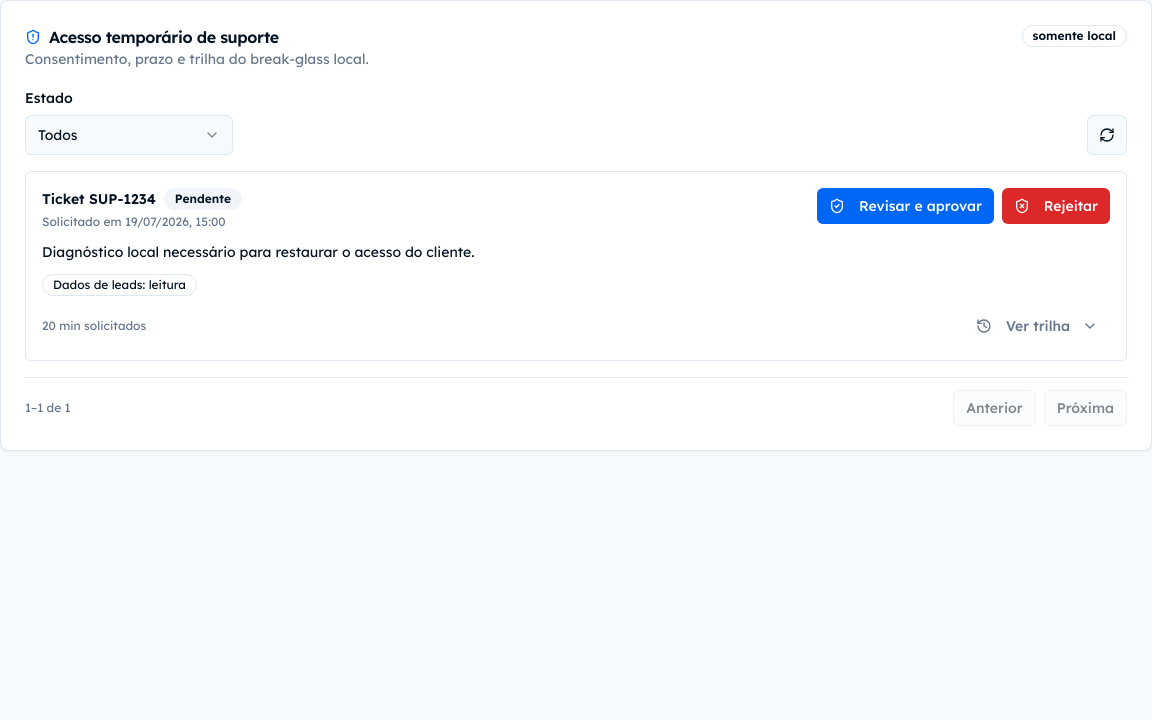
it: SupportAccessPanel › does not approve lead data without a primary scope
Click the button "Revisar e aprovar": point(905, 206) [817,188,994,224]
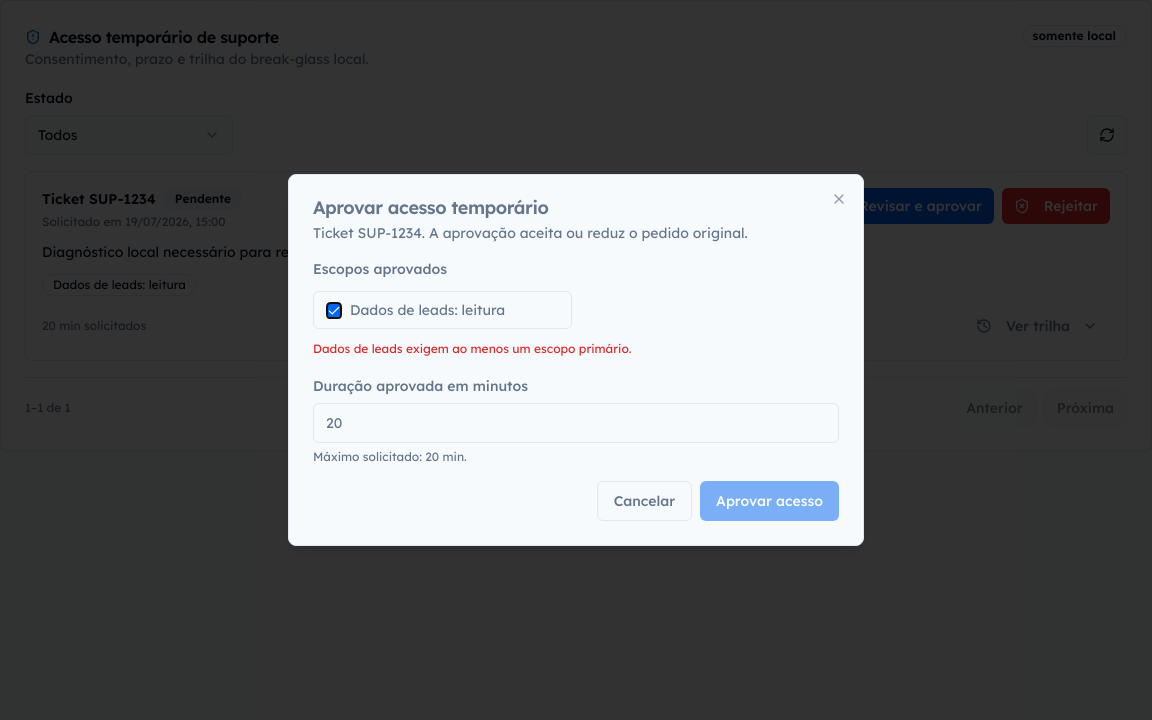
Check: the text "Dados de leads exigem ao menos um escopo primário." is shown, box [313,341,632,356]
Check: the button "Aprovar acesso" is disabled, box [700,481,839,521]
